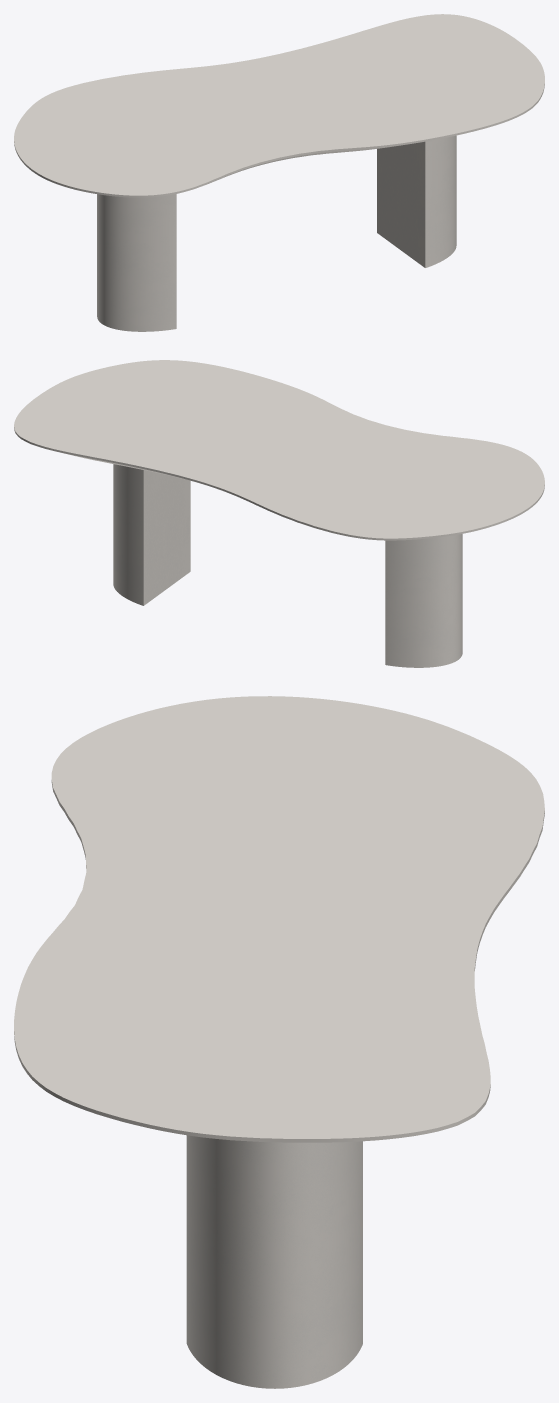
The model's file is pearlwhite_wave_facet_hillside.glb.
The picture shows the model from 3 angles, top to bottom: view 1: azimuth 30°, elevation 25°; view 2: azimuth 150°, elevation 25°; view 3: azimuth 270°, elevation 25°; orthographic projection. The views are drawn at different scales.
Parts seen in each view (by area): view 1: facet_wave, hillside; view 2: facet_wave, hillside; view 3: facet_wave, hillside.
Boxes of the visible parts, left/top/right/bottom form: facet_wave: left=14, top=14, right=544, bottom=197; hillside: left=97, top=135, right=456, bottom=331; facet_wave: left=14, top=360, right=544, bottom=540; hillside: left=113, top=464, right=462, bottom=667; facet_wave: left=14, top=696, right=544, bottom=1142; hillside: left=186, top=1135, right=362, bottom=1388.
Size of the model in its own units: 7.5 by 2.5 by 3.8.
Materials: 1 (1 with a texture image).
